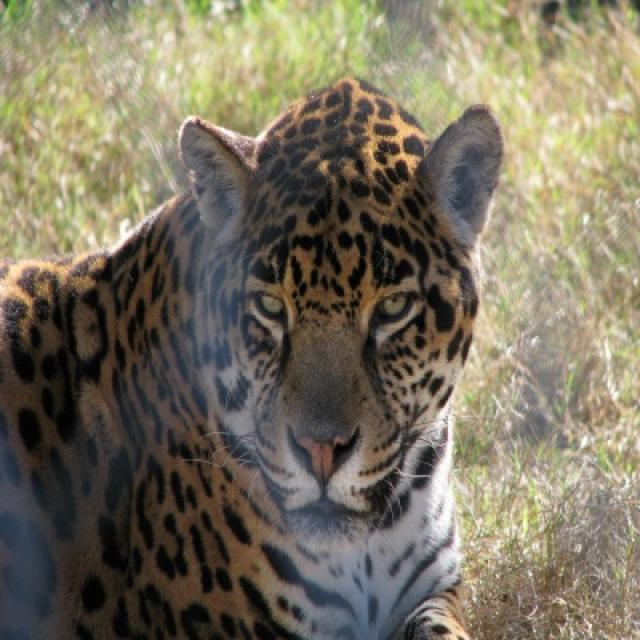Jaguar: (2, 82, 504, 638)
